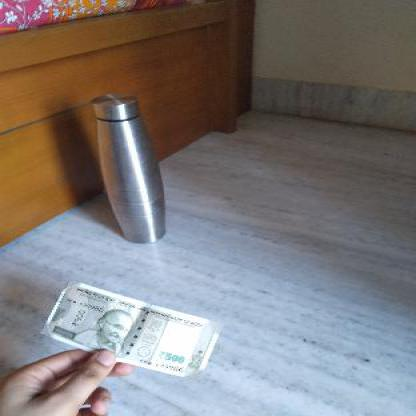New500Front: (39, 278, 225, 378)
